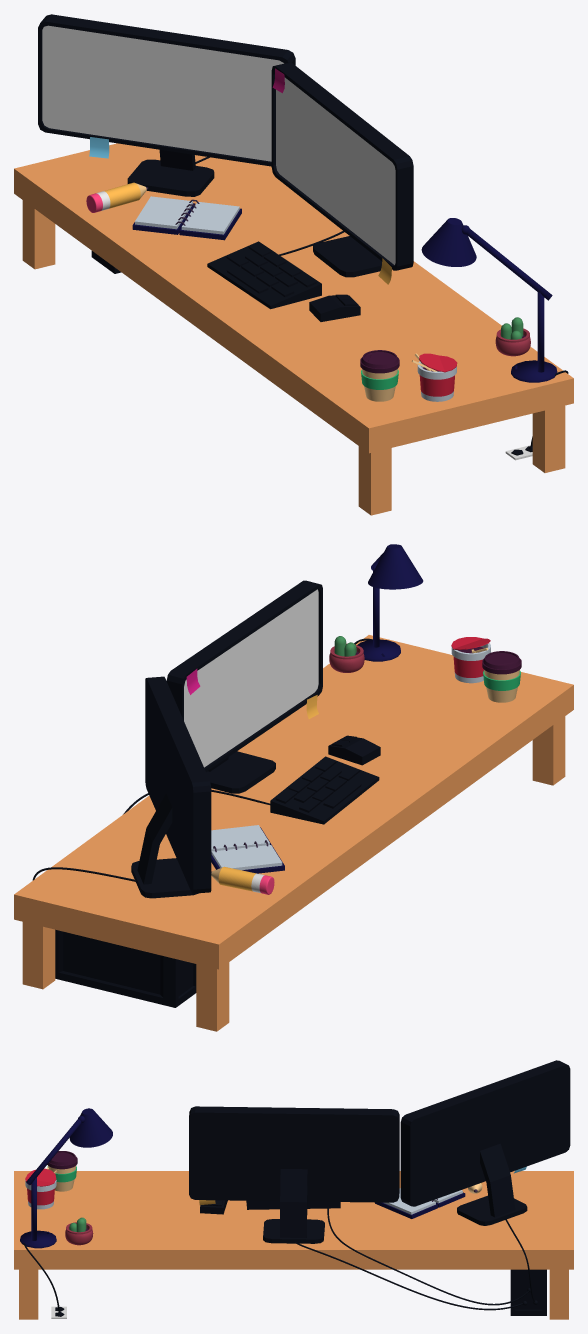
Rendered from Desk.fbx.
3 renders of one model, top to bottom at view 1: azimuth 30°, elevation 25°; view 2: azimuth 150°, elevation 25°; view 3: azimuth 270°, elevation 25°, orthographic. The views are drawn at different scales.
Parts seen in each view (by area): view 1: Desk; view 2: Desk; view 3: Desk.
Part boxes in pixels (x1,y1,x2,y2): Desk: [14, 14, 573, 515]; Desk: [14, 544, 573, 1031]; Desk: [14, 1060, 573, 1319].
Bounding box in the file's own units: 212 × 225 × 600.
